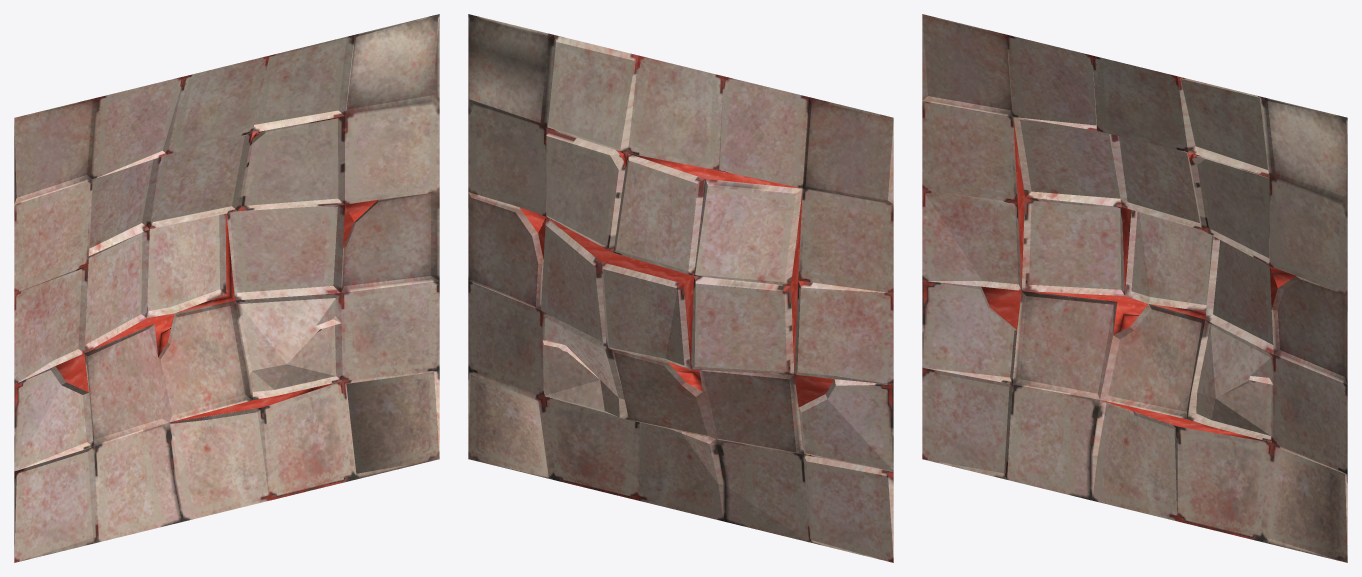
Rendered from HipDropRepairParts000.obj.
3 views of the same model, side by side, from view 1: azimuth 30°, elevation 25°; view 2: azimuth 150°, elevation 25°; view 3: azimuth 330°, elevation 25° (orthographic).
Visible parts, largest first — view 1: Floor85__FloorStoneBase02, pPlane65__GroundSandRed00_rep; view 2: Floor85__FloorStoneBase02, pPlane65__GroundSandRed00_rep; view 3: Floor85__FloorStoneBase02, pPlane65__GroundSandRed00_rep.
Part boxes in pixels (x1,y1,x2,y2): Floor85__FloorStoneBase02: (14, 14, 439, 562); pPlane65__GroundSandRed00_rep: (55, 130, 377, 422); Floor85__FloorStoneBase02: (468, 14, 893, 562); pPlane65__GroundSandRed00_rep: (519, 150, 834, 407); Floor85__FloorStoneBase02: (922, 14, 1347, 562); pPlane65__GroundSandRed00_rep: (981, 118, 1296, 442).
Bounding box in the file's own units: 500 × 500 × 89.46.
3 materials, 2 textured.
